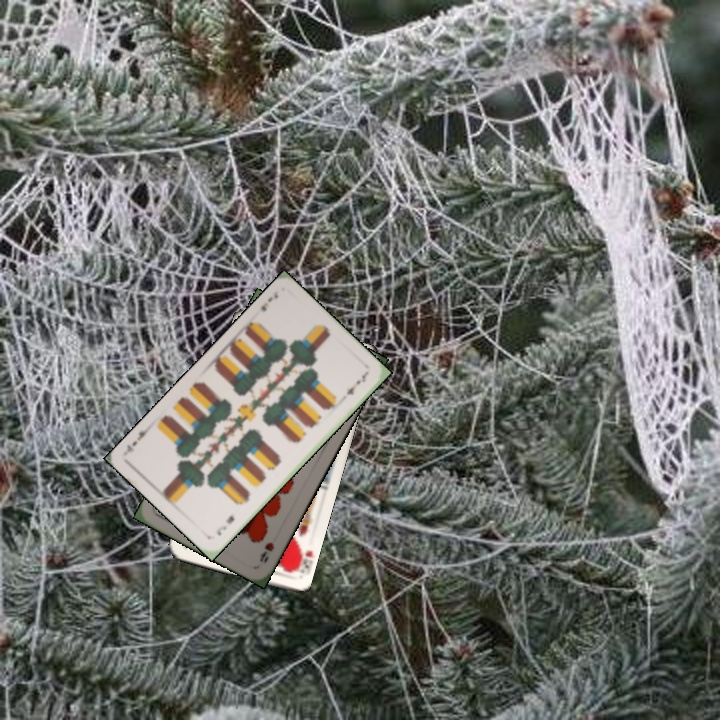E7: (212, 511, 237, 538), (257, 287, 281, 314)
H9: (255, 538, 277, 565)
HK: (290, 544, 315, 576)
